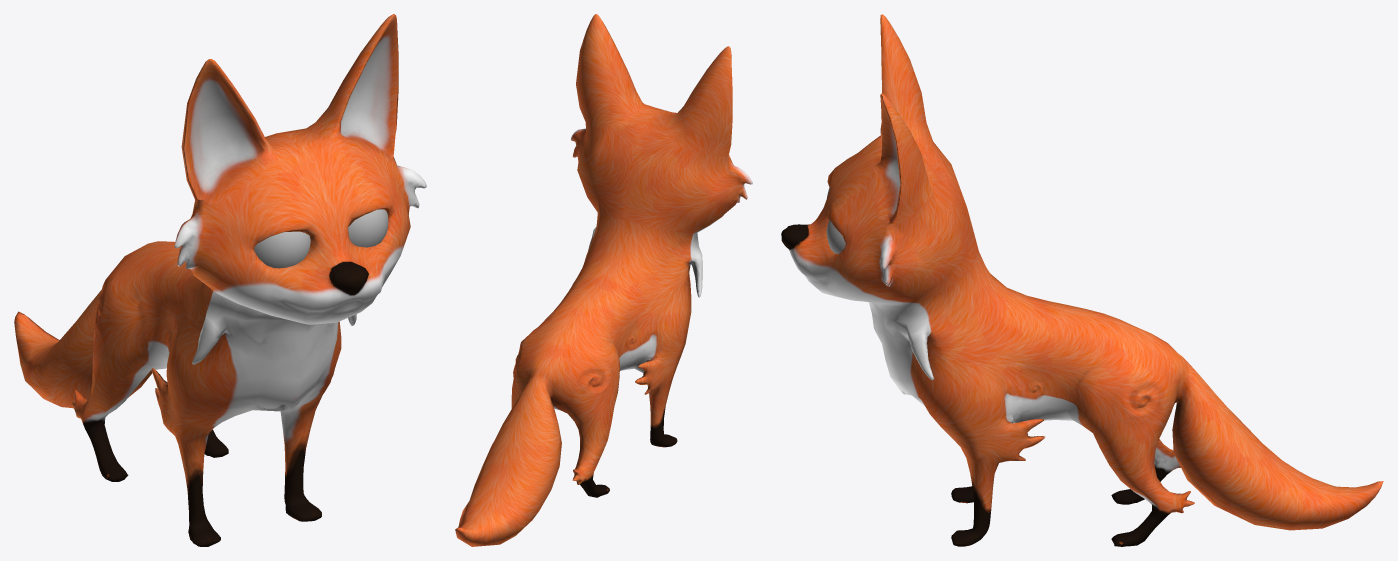
3 views of the same model, side by side, from view 1: azimuth 30°, elevation 25°; view 2: azimuth 150°, elevation 25°; view 3: azimuth 270°, elevation 25° (orthographic). The views are drawn at different scales.
Parts seen in each view (by area): view 1: SM_CJ_Low, SM_CJ_Eye_R, SM_CJ_Eye_L; view 2: SM_CJ_Low; view 3: SM_CJ_Low.
Boxes of the visible parts, x1,y1,x2,y2 form: SM_CJ_Low: (14, 14, 426, 546); SM_CJ_Eye_R: (254, 231, 310, 268); SM_CJ_Eye_L: (348, 209, 388, 247); SM_CJ_Low: (455, 14, 752, 546); SM_CJ_Low: (781, 14, 1383, 546).
Size of the model in its own units: 56.55 by 114 by 132.
3 materials, 1 textured.
